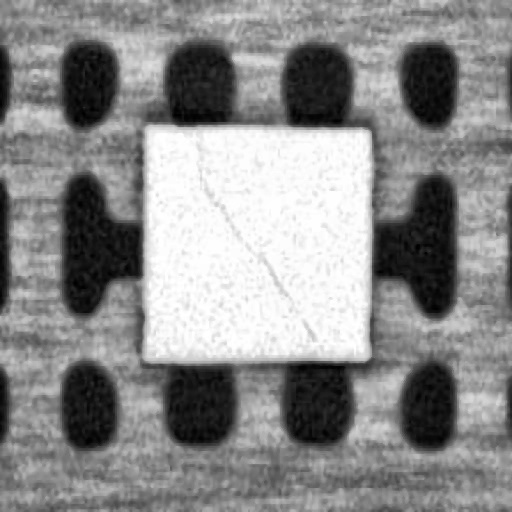DIE_CRACK: (193, 154, 314, 337)
